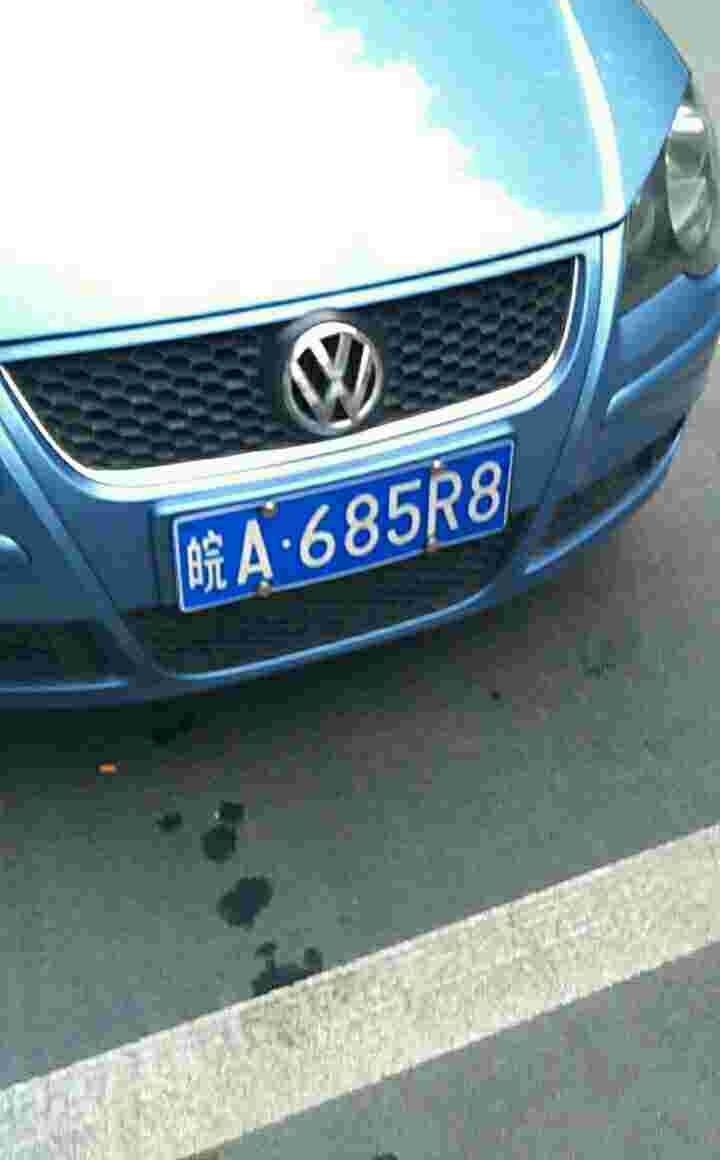license_plate: (171, 444, 518, 614)
